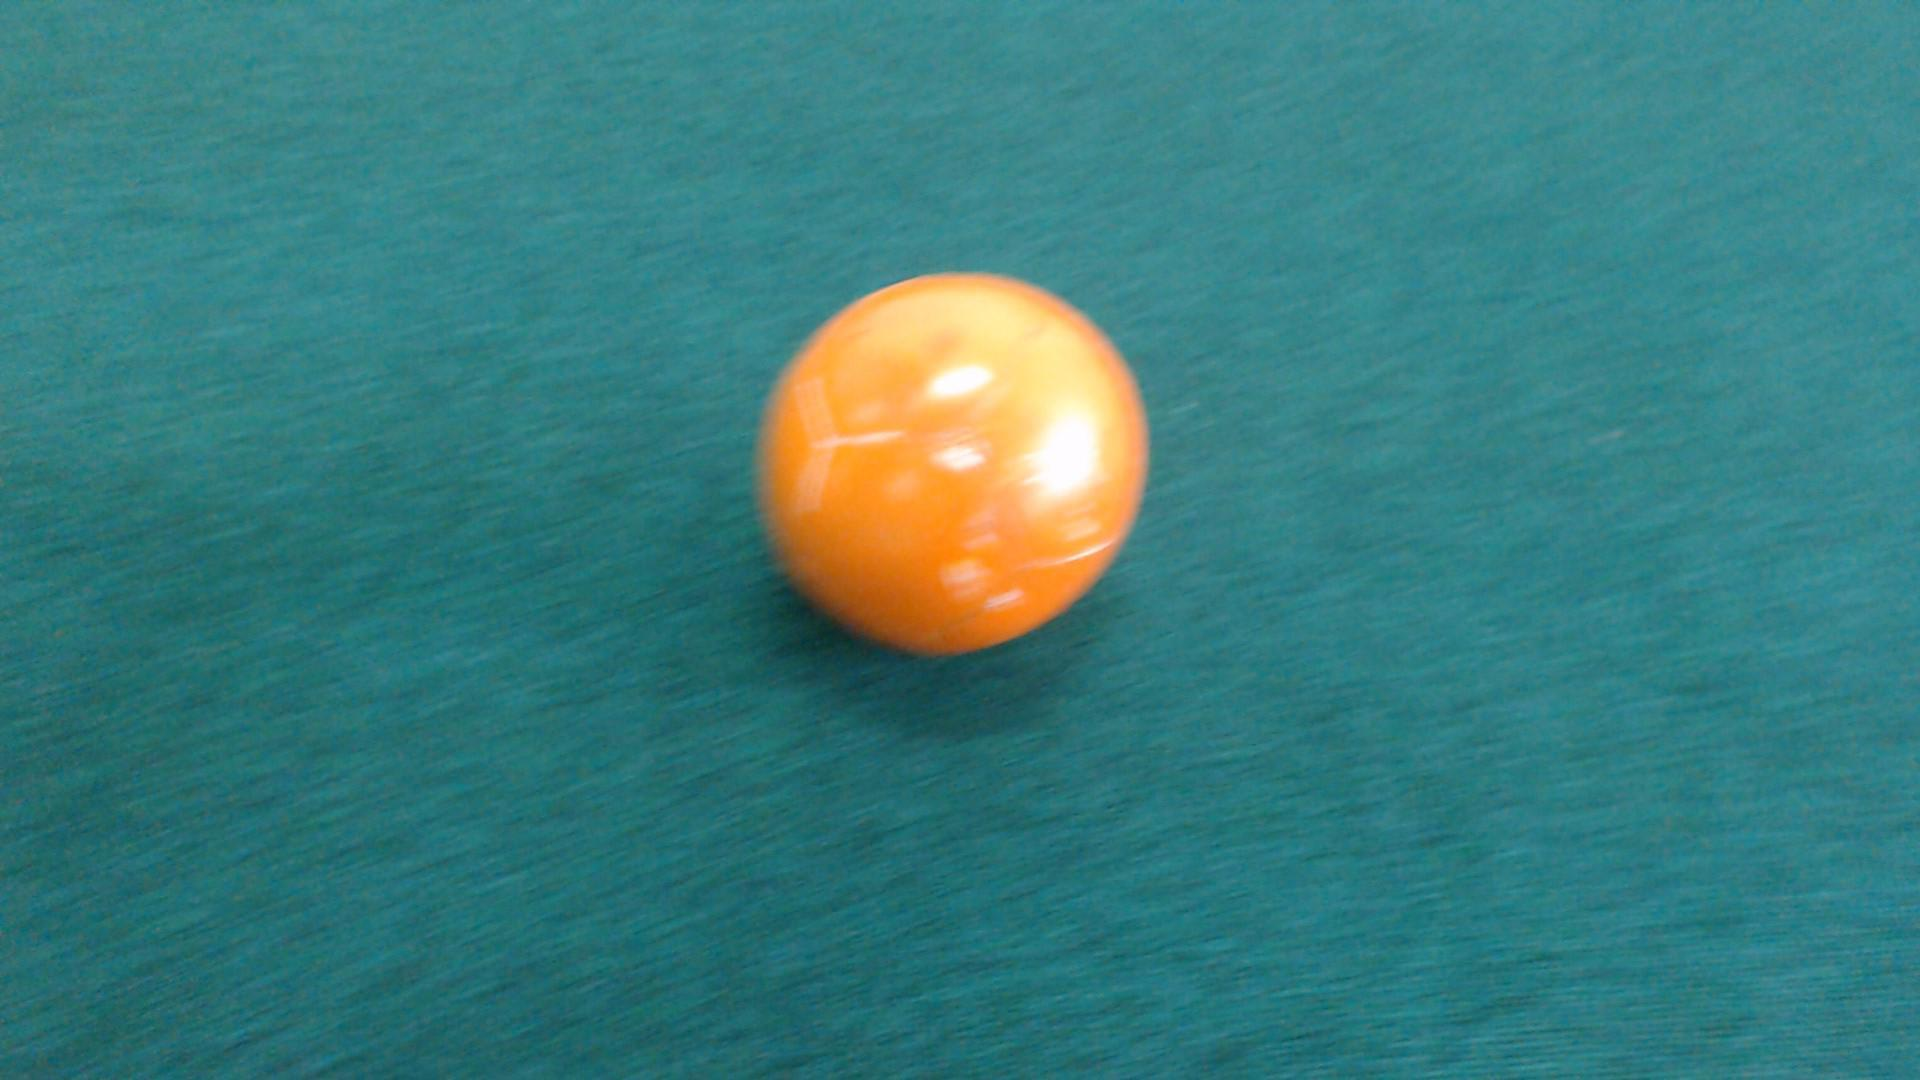bola: (708, 245, 1187, 682)
